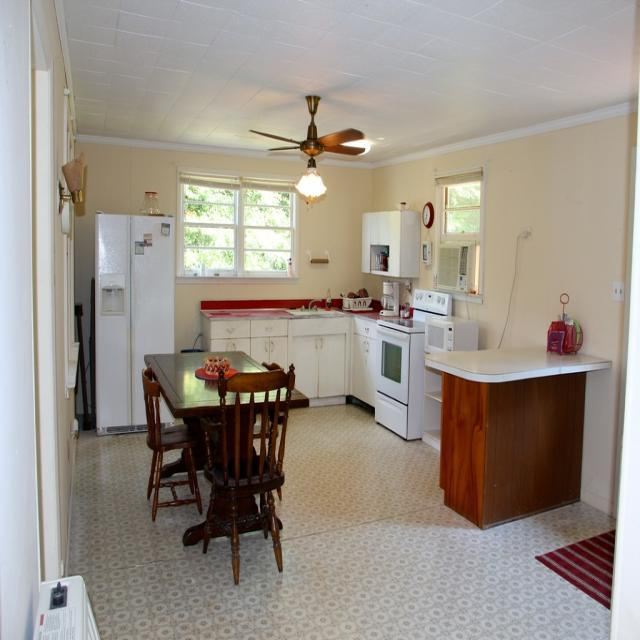bulb_on: (296, 180, 330, 200)
fan_off: (243, 94, 364, 162)
